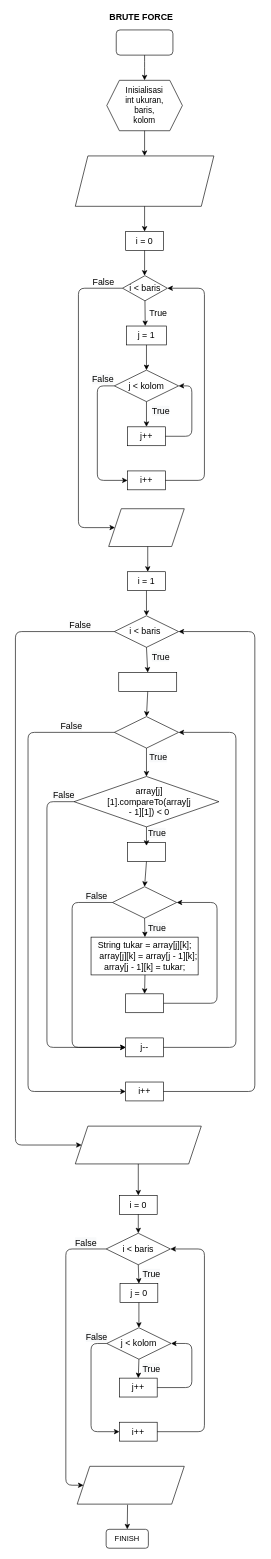
Some shapes in this 271 by 1559 pixel diagram are drawn without their labels. Here are the shapes that lost their labels. From the top down, the centre of each, then its label:
At (x=144, y=42): "START".
At (x=144, y=180): "Output :=======Algoritma Brute-Force======= Input : Jumlah Data".
At (x=146, y=527): "Input : Nama & NIM".
At (x=147, y=681): "j = baris - 1".
At (x=146, y=732): "j >= i".
At (x=146, y=852): "k = 0".
At (x=144, y=902): "k < kolom".
At (x=144, y=1003): "k++".
At (x=138, y=1144): "Output : Setelah Diurutkan dengan Bubble Sort".
At (x=130, y=1485): "Output : array[i][j]".
